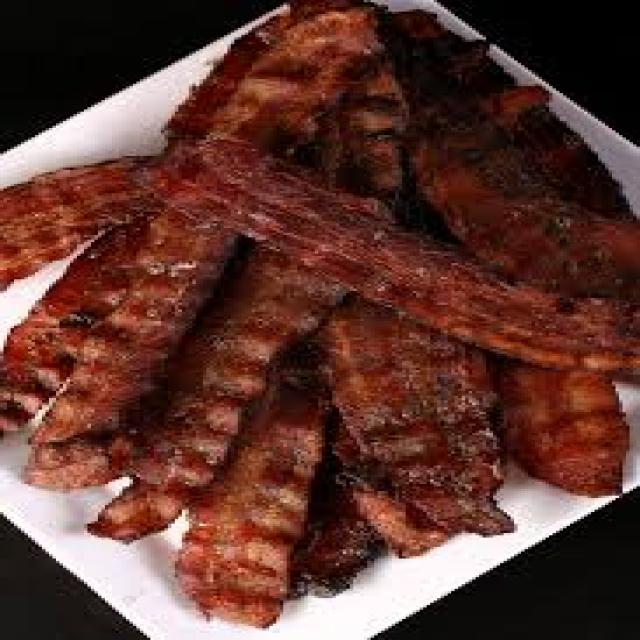Bacon: (245, 161, 639, 371), (90, 246, 344, 538), (325, 299, 513, 554), (32, 219, 231, 444), (177, 387, 323, 626), (505, 364, 627, 496)
